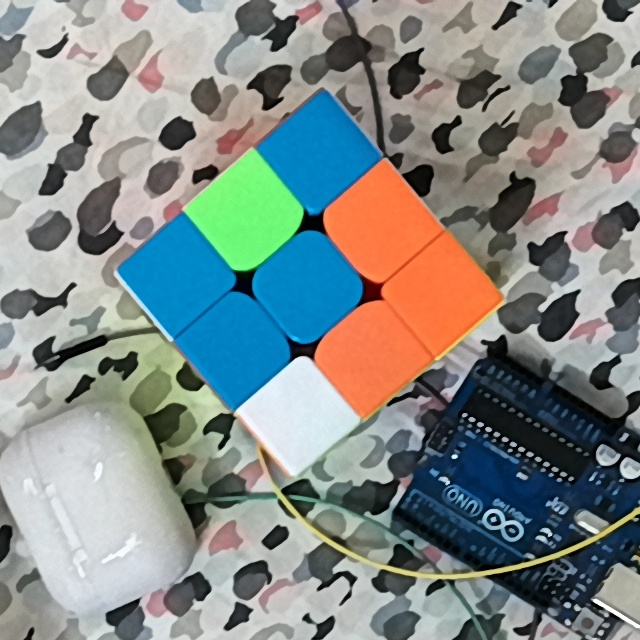tile: (205, 313, 266, 379), (347, 192, 411, 253), (286, 124, 346, 186), (340, 324, 401, 384), (413, 262, 471, 325), (213, 183, 276, 240), (279, 258, 339, 317), (270, 388, 327, 447), (146, 248, 202, 305)
